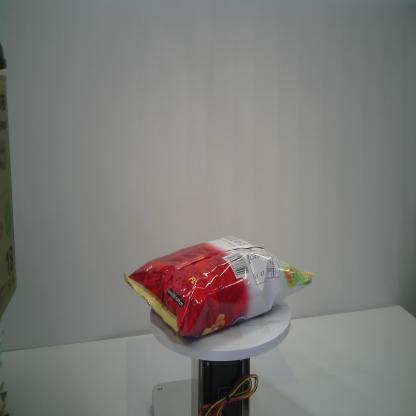Puffed Food: (123, 233, 313, 344)
